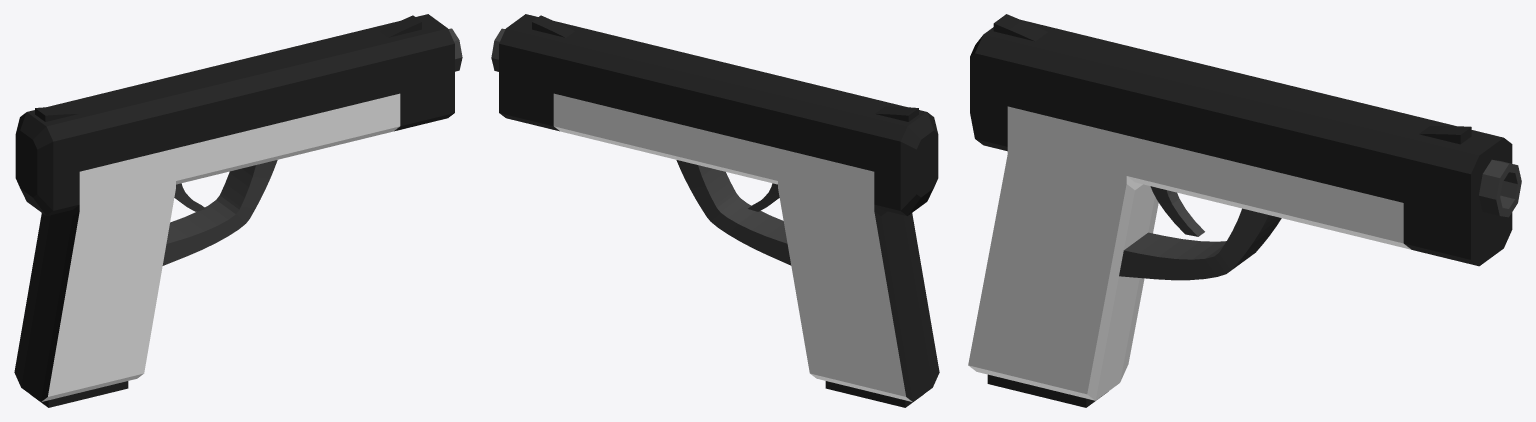
The model's file is pistola.fbx.
3 renders of one model, left to right at view 1: azimuth 30°, elevation 25°; view 2: azimuth 150°, elevation 25°; view 3: azimuth 330°, elevation 25°, orthographic. The views are drawn at different scales.
Visible parts, largest first — view 1: Cube; view 2: Cube; view 3: Cube.
Part boxes in pixels (left/top/right/bottom): Cube: left=14, top=14, right=462, bottom=407; Cube: left=491, top=14, right=939, bottom=407; Cube: left=968, top=14, right=1521, bottom=407.
Size of the model in its own units: 1286 by 838 by 175.
Materials: 1 (1 with a texture image).
